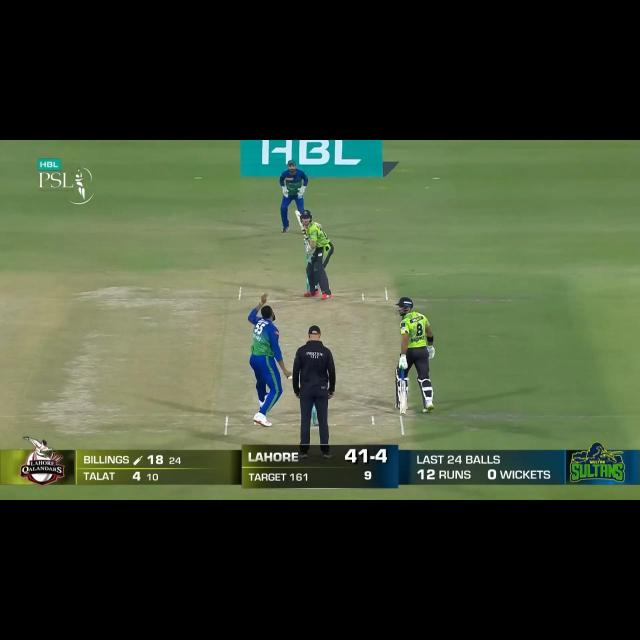bat: (293, 209, 310, 242), (398, 380, 408, 416)
toe: (398, 409, 408, 416), (292, 210, 300, 218)
